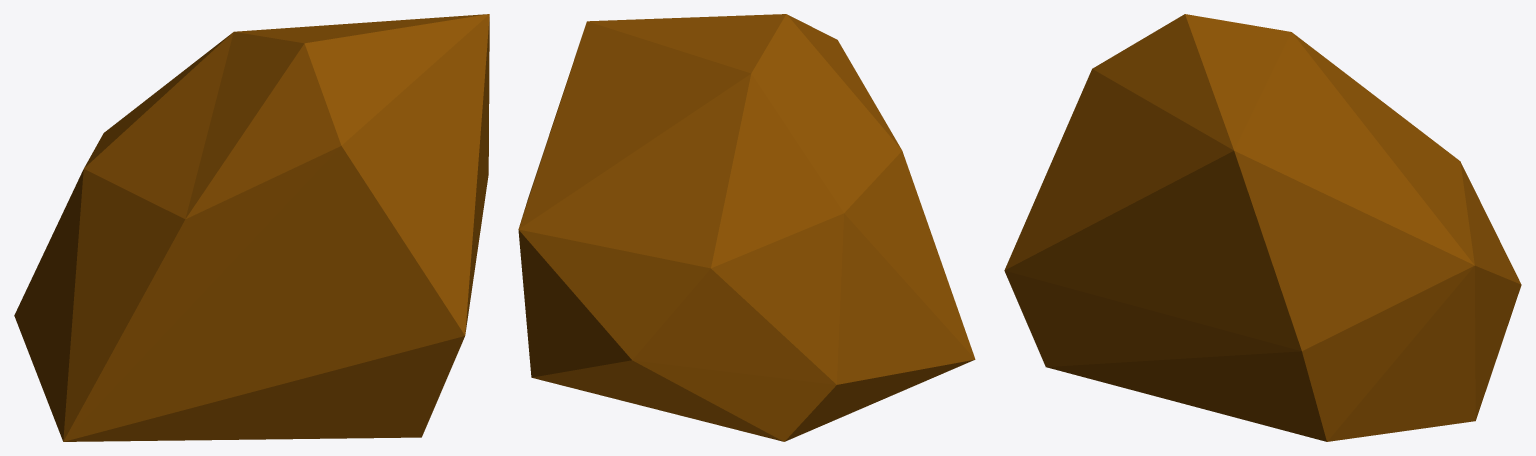
File: Rock_01.fbx
3 renders of one model, left to right at view 1: azimuth 30°, elevation 25°; view 2: azimuth 150°, elevation 25°; view 3: azimuth 270°, elevation 25°, orthographic. The views are drawn at different scales.
Visible parts, largest first — view 1: Rock_01; view 2: Rock_01; view 3: Rock_01.
Boxes of the visible parts, x1,y1,x2,y2 form: Rock_01: (14, 14, 489, 441); Rock_01: (518, 14, 975, 441); Rock_01: (1004, 14, 1521, 441).
Size of the model in its own units: 1211 by 911 by 1195.
